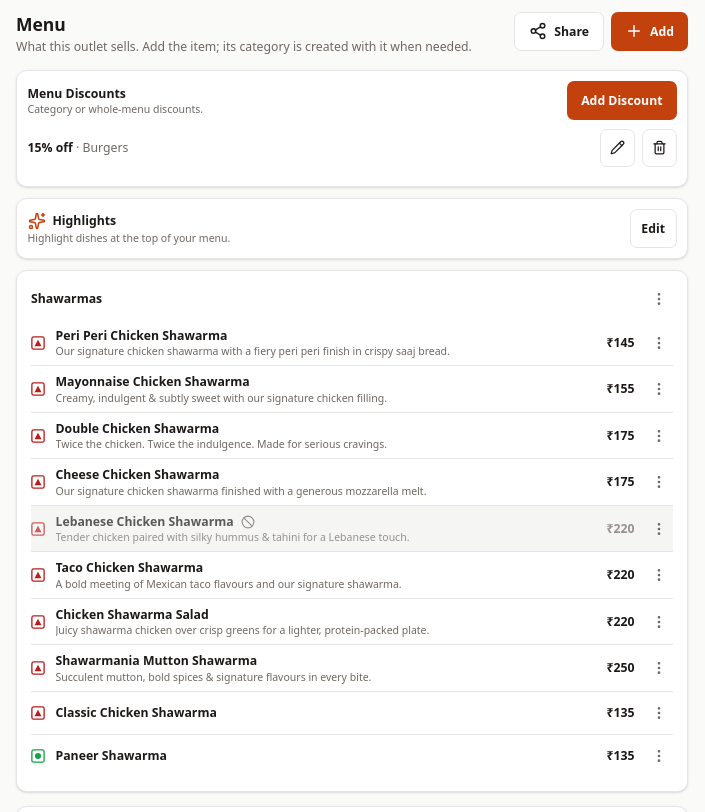
MenuSurface — the manager › sharing the public menu › copies the link where there is no share sheet, and says so
The width and height of the screenshot is (705, 812).
Click the button with aria-label "Share public menu" at (559, 31), box 514,12 -> 604,50
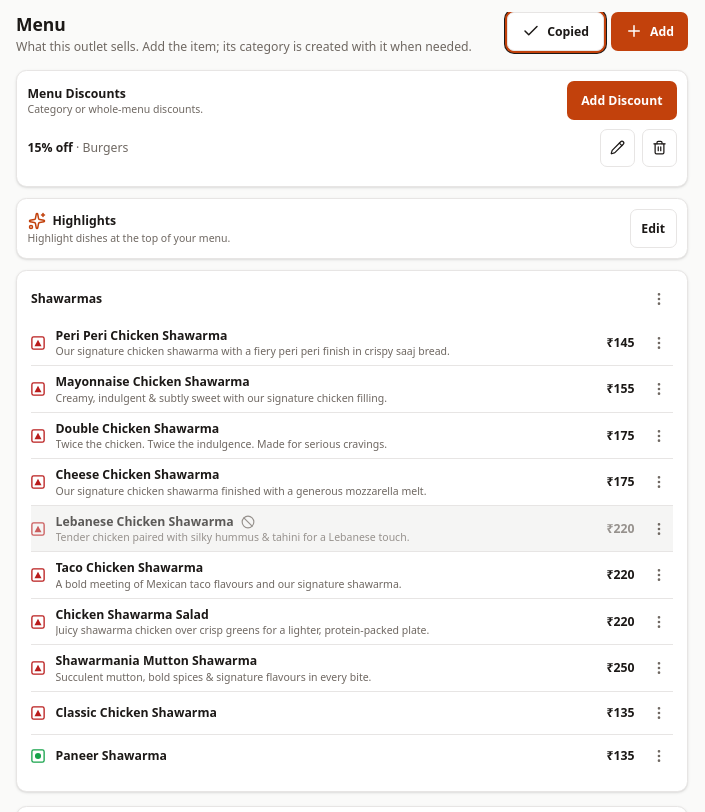
Check: the button with aria-label "Public menu link copied" is shown, box 507,12 -> 604,50
